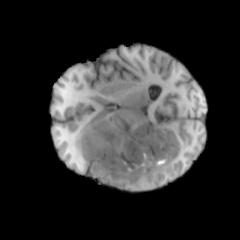glioma: (75, 113, 187, 189)
